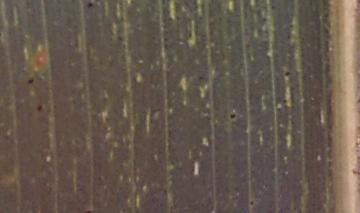tarspot: (227, 111, 239, 122), (26, 75, 35, 88), (84, 1, 97, 9), (36, 103, 45, 113), (284, 70, 292, 78), (249, 200, 257, 207)
